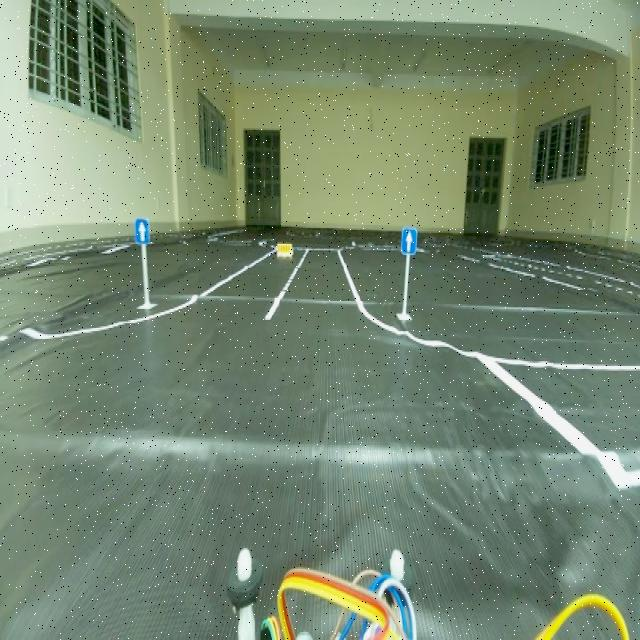onewayroad: (133, 208, 153, 247), (402, 221, 423, 256)
roadblock: (273, 234, 295, 264)
